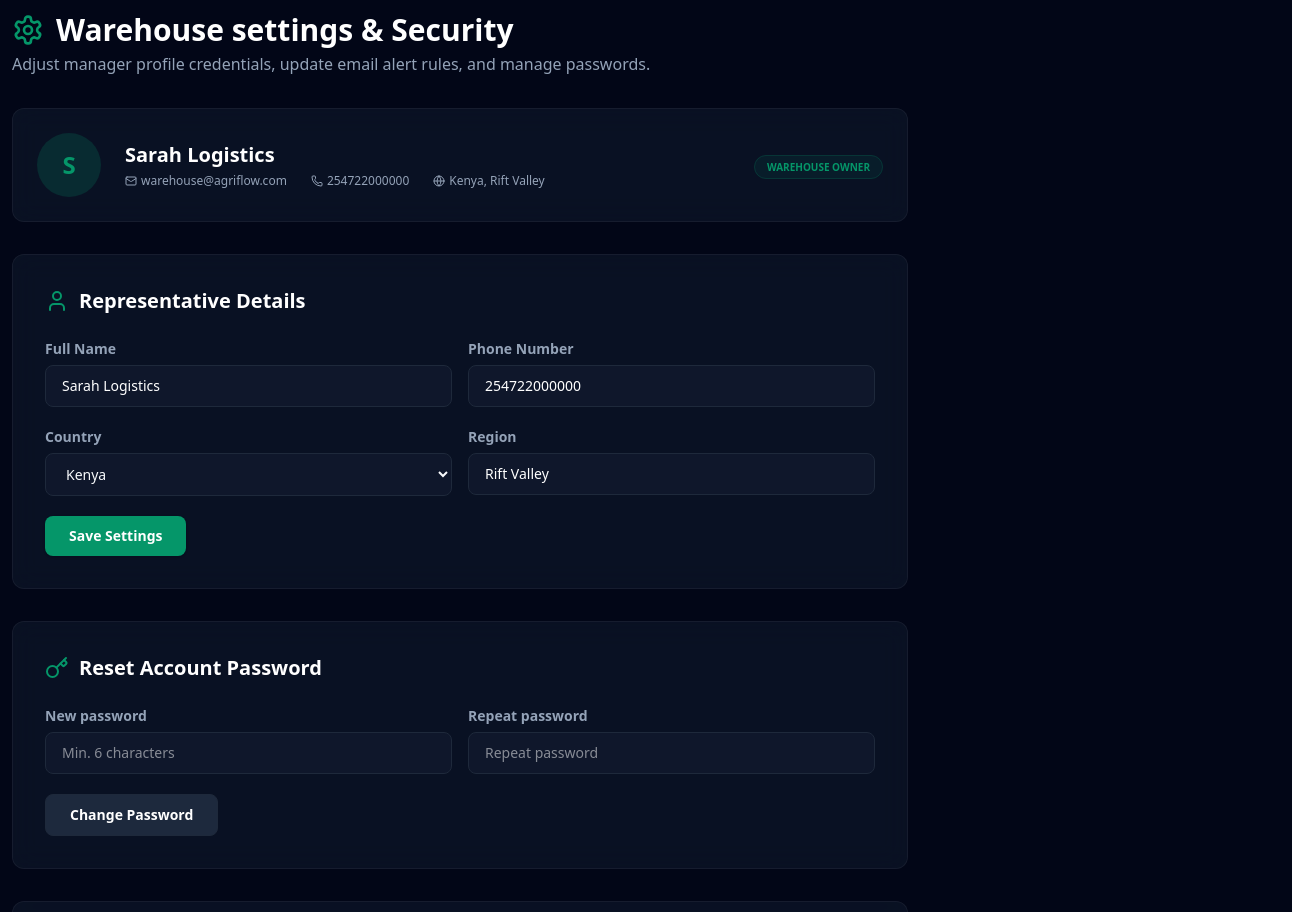
it: WarehouseSettings Page Component › handles password change validation error for short password
Type "123" into the password field with placeholder "Min. 6 characters" at (248, 753), box top-left (45, 732), bottom-right (452, 774)
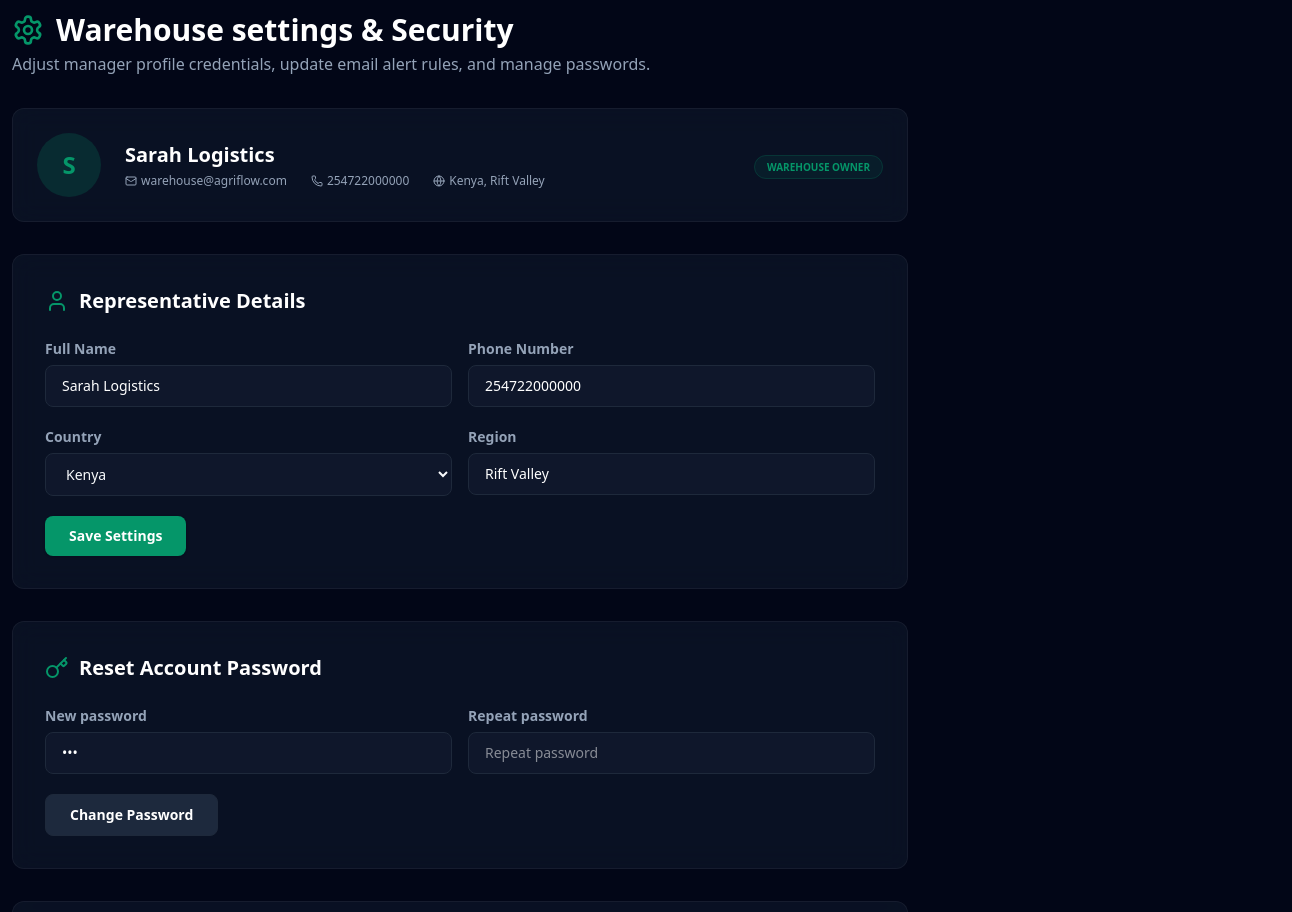
Type "123" into the password field with placeholder "Repeat password" at (672, 753), box top-left (468, 732), bottom-right (875, 774)
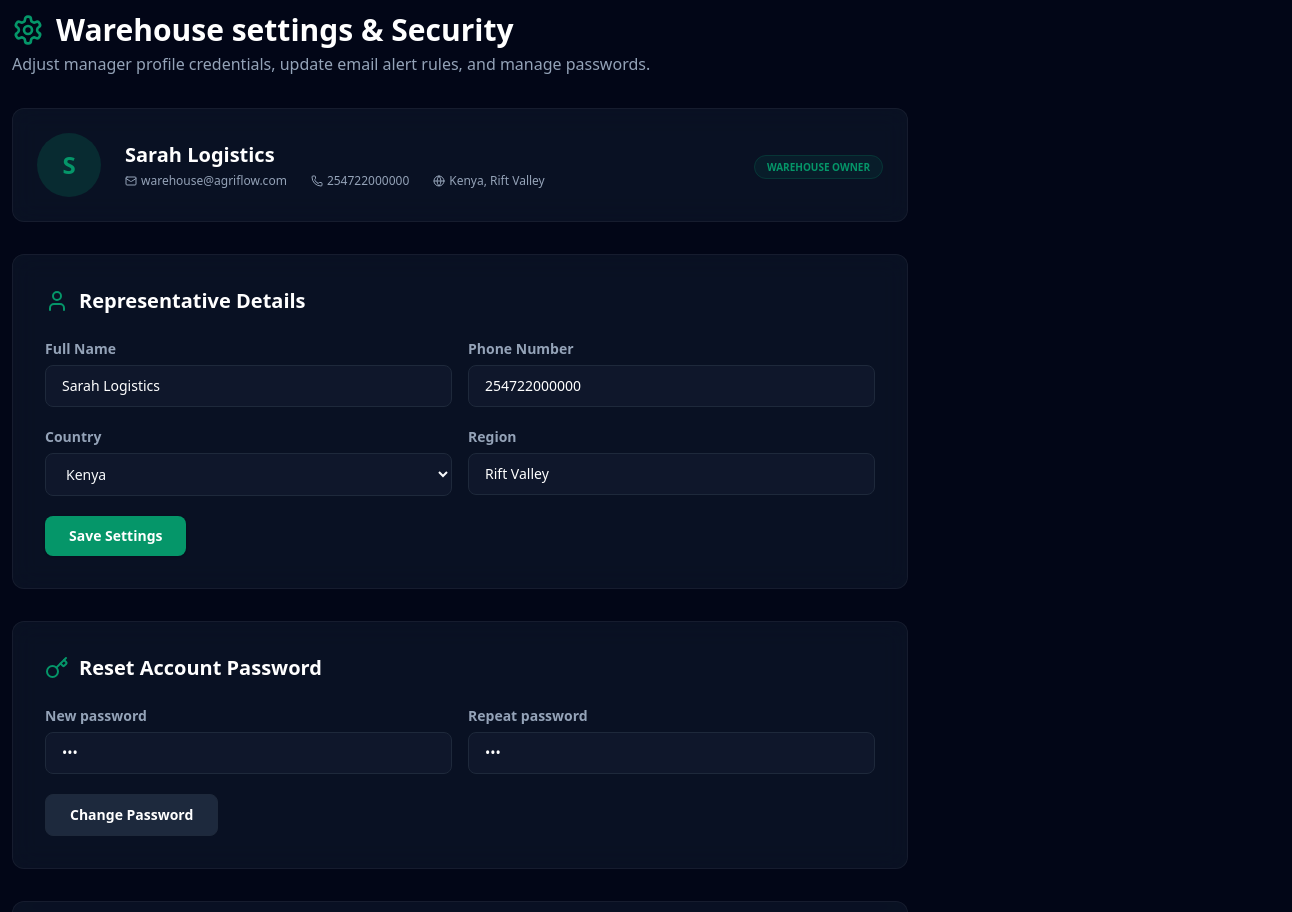
Click the button "Change Password" at (132, 815), box top-left (45, 794), bottom-right (218, 836)
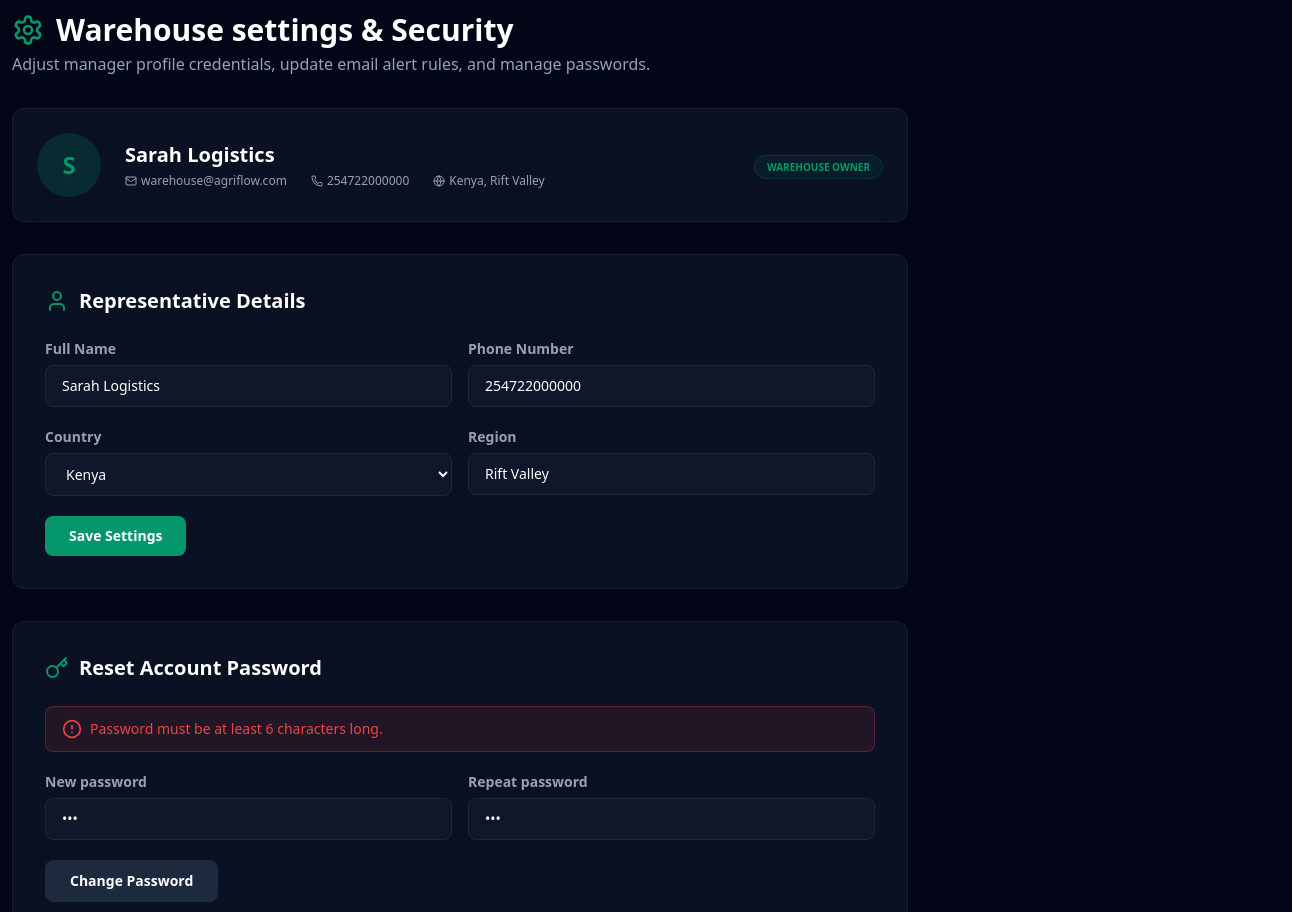
Expected: the text "Password must be at least 6 characters long." is shown, top-left (90, 719), bottom-right (383, 739)
